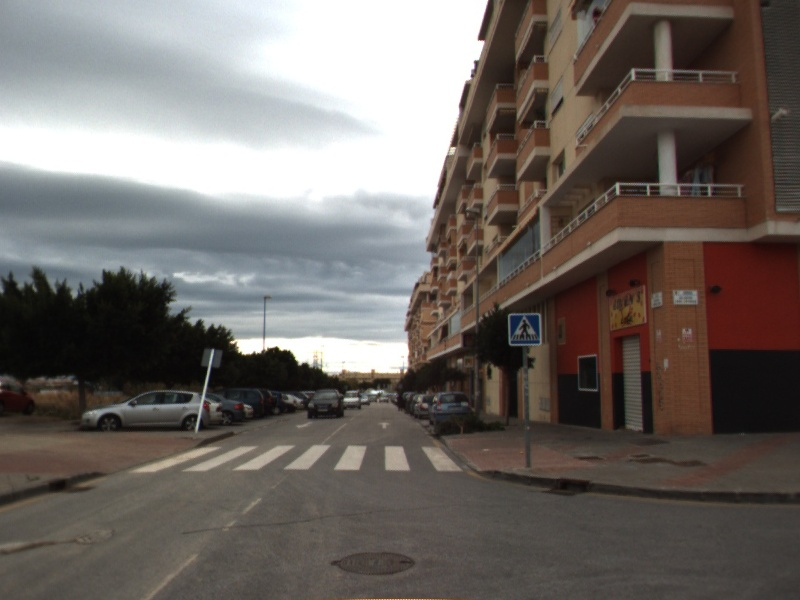STRAIGHT: (376, 420, 392, 431)
